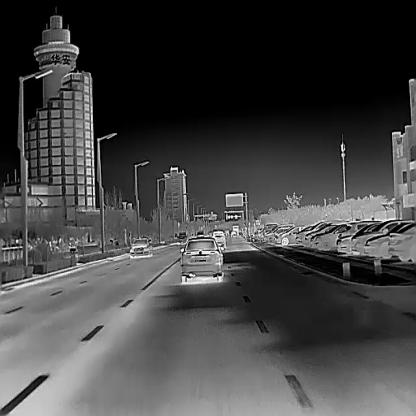bus: (231, 223, 238, 234)
car: (364, 220, 416, 259), (178, 237, 222, 281), (336, 222, 383, 252), (310, 222, 352, 250), (274, 224, 306, 245), (296, 221, 320, 245), (129, 237, 152, 258), (210, 227, 225, 248), (175, 231, 186, 242), (196, 229, 203, 237), (230, 230, 237, 236)
